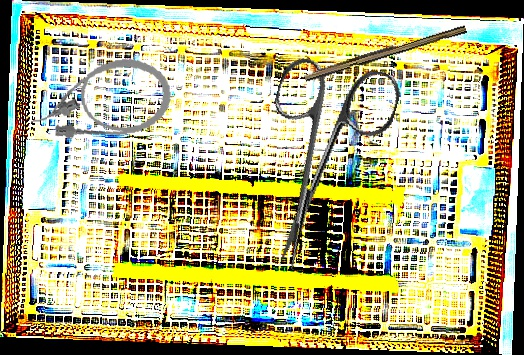Cannula: (24, 53, 176, 148)
Iris Scissors: (231, 46, 405, 285)
Scalpel Handle: (303, 20, 467, 85)
